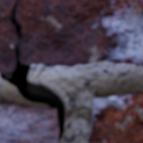brick: (89, 93, 142, 142), (0, 105, 58, 142)
broken_brick: (0, 0, 142, 72)
crack: (0, 2, 68, 140)
